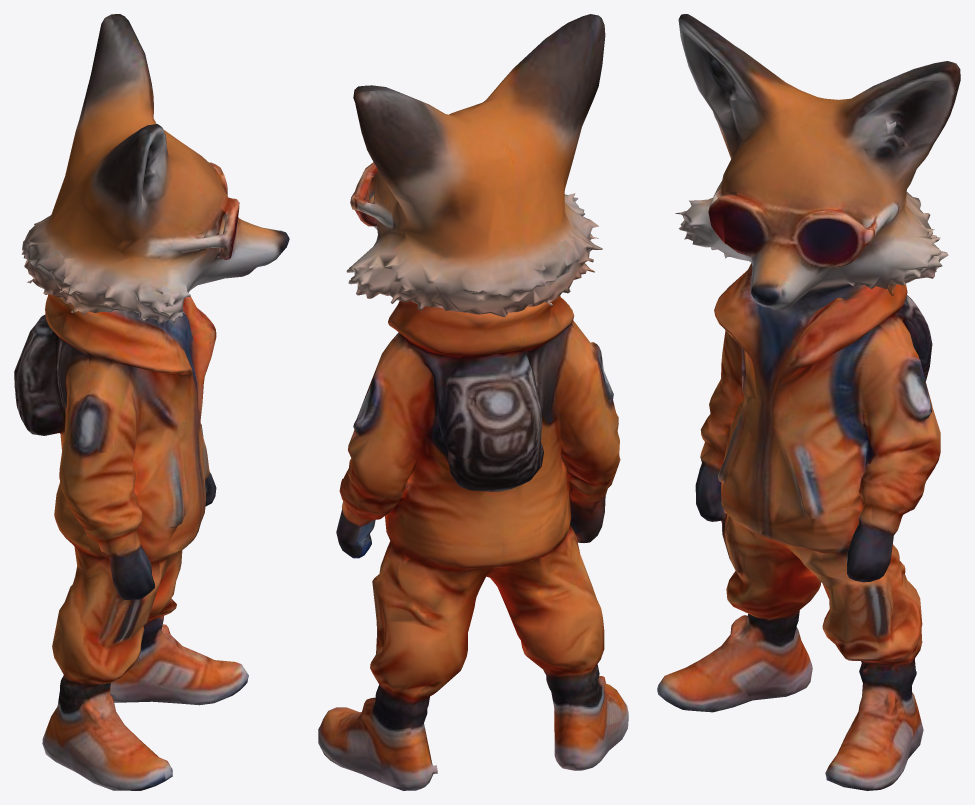
Rendered from renardlunettes.glb.
3 renders of one model, left to right at view 1: azimuth 30°, elevation 25°; view 2: azimuth 150°, elevation 25°; view 3: azimuth 270°, elevation 25°, orthographic. The views are drawn at different scales.
Parts seen in each view (by area): view 1: tripo_node_93435ba3-c0fe-48e8-807e-e7f531cb3f19; view 2: tripo_node_93435ba3-c0fe-48e8-807e-e7f531cb3f19; view 3: tripo_node_93435ba3-c0fe-48e8-807e-e7f531cb3f19.
Boxes of the visible parts, x1=… form: tripo_node_93435ba3-c0fe-48e8-807e-e7f531cb3f19: x1=14, y1=14, x2=289, y2=790; tripo_node_93435ba3-c0fe-48e8-807e-e7f531cb3f19: x1=318, y1=14, x2=628, y2=790; tripo_node_93435ba3-c0fe-48e8-807e-e7f531cb3f19: x1=657, y1=14, x2=960, y2=790.
Bounding box in the file's own units: 0.3441 × 0.9483 × 0.374.
1 material, 1 textured.
